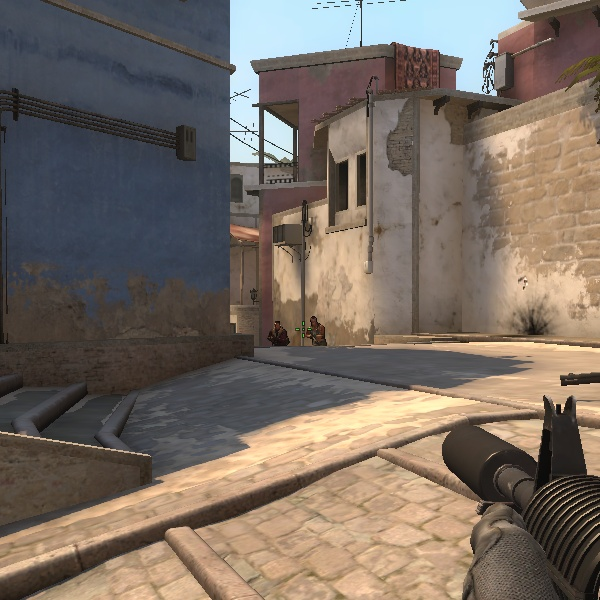t_body: (300, 314, 328, 347), (265, 319, 292, 348)
t_head: (306, 315, 322, 329), (271, 320, 285, 333)
